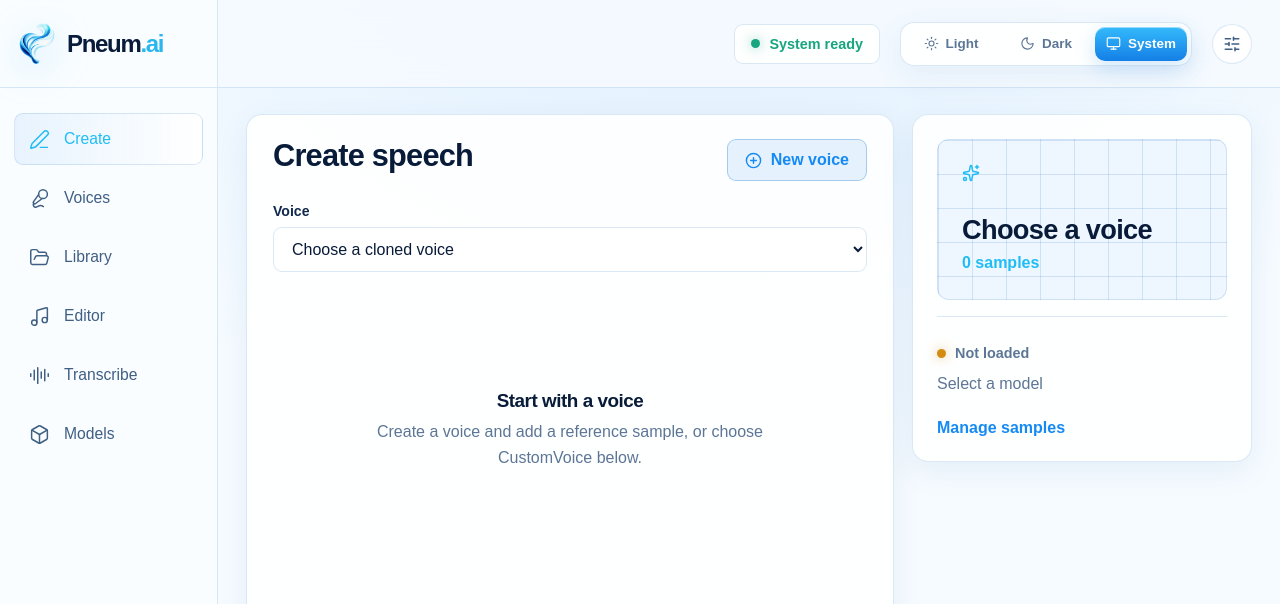
Scenario: Pneum.ai Voice Studio application › loads the API and navigates through the complete studio
The width and height of the screenshot is (1280, 604).
expect the heading "Start with a voice" is shown: met, box 497,390 -> 643,412
expect the text "System ready" is shown: met, box 734,24 -> 880,64
Click the button "Voices" at (108, 198), box 14,172 -> 203,224
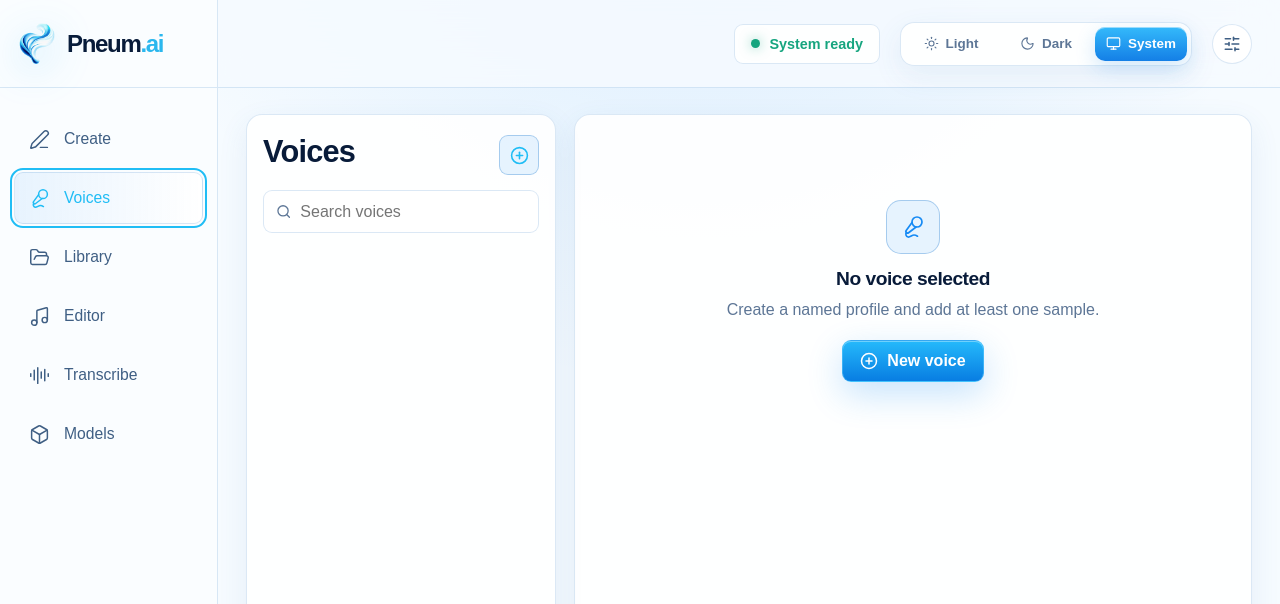
expect the heading "Voices" is shown: met, box 263,135 -> 355,169
Click the button "Library" at (108, 257), box 14,231 -> 203,283
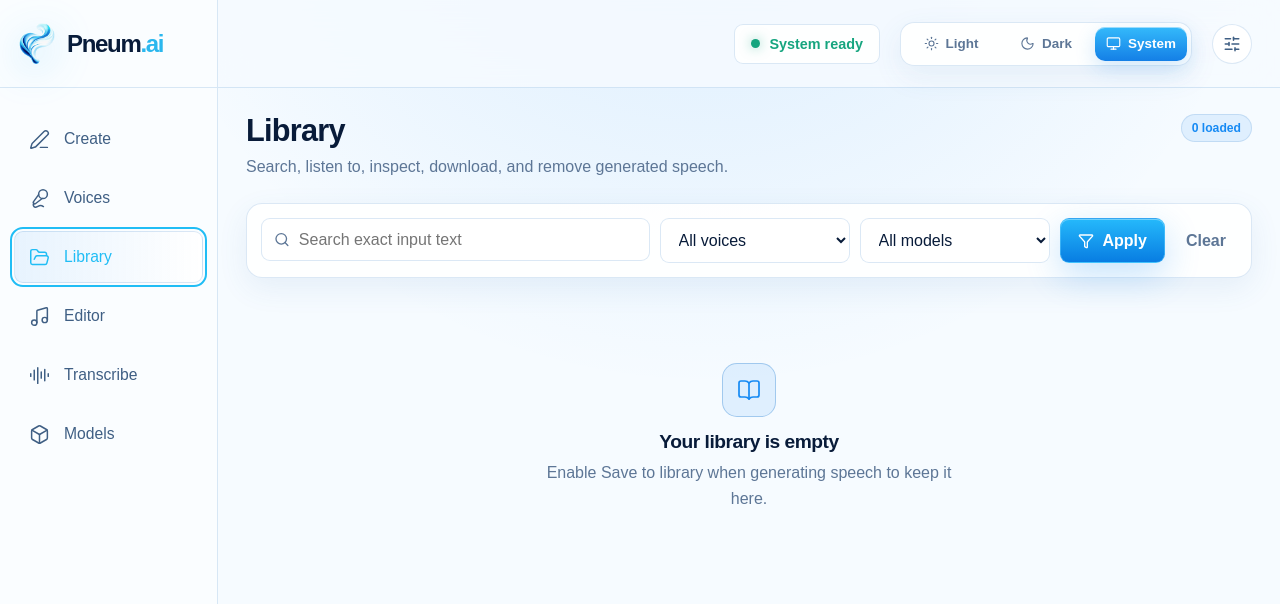
expect the heading "Library" is shown: met, box 246,113 -> 345,148
Click the button "Editor" at (108, 316), box 14,290 -> 203,342
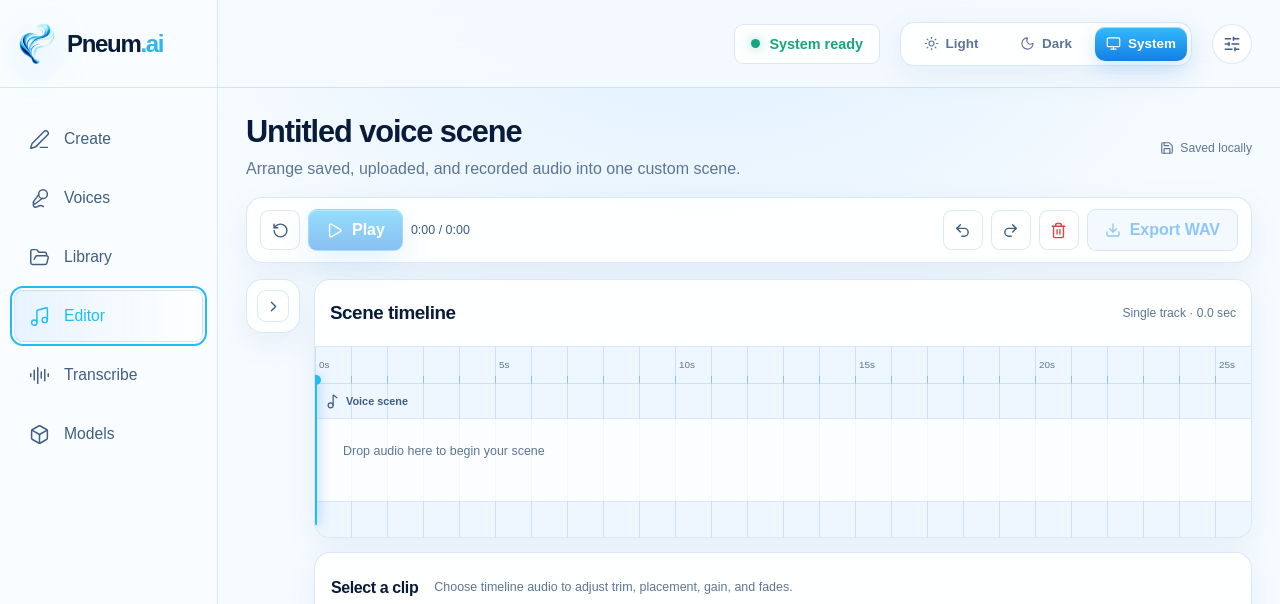
expect the heading "Scene timeline" is shown: met, box 330,302 -> 456,324
Click the button "Transcribe" at (108, 375), box 14,349 -> 203,401
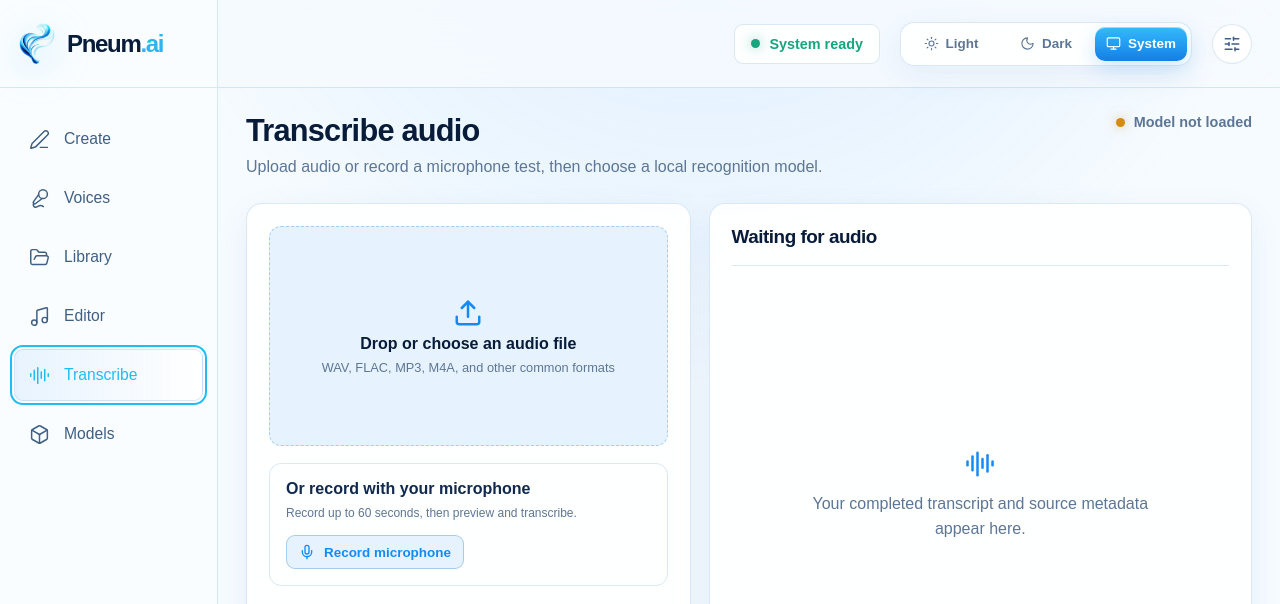
expect the heading "Transcribe audio" is shown: met, box 246,113 -> 480,148
Click the button "Models" at (108, 434), box 14,408 -> 203,460
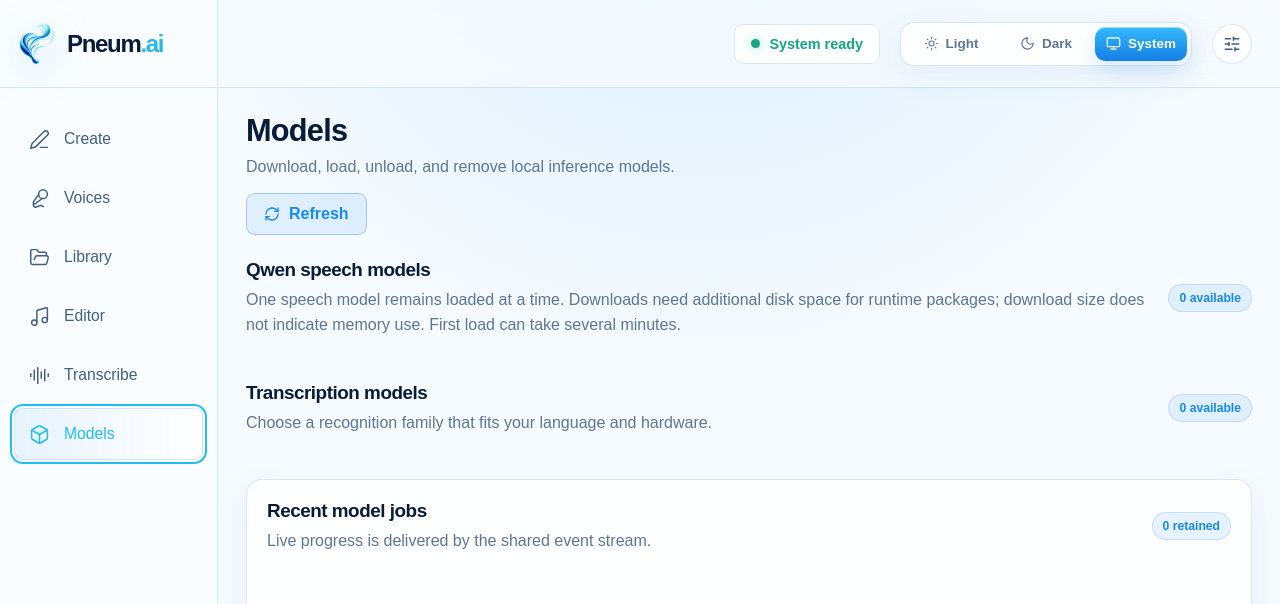
expect the heading "Models" is shown: met, box 246,113 -> 347,148
